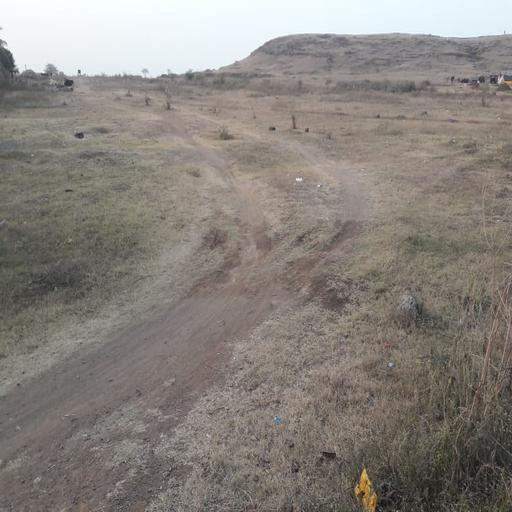vehicle_track: (0, 81, 392, 511)
